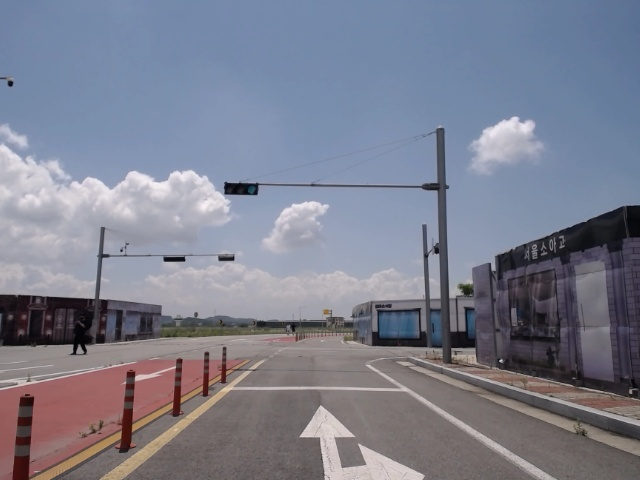green_3: (224, 183, 258, 195)
